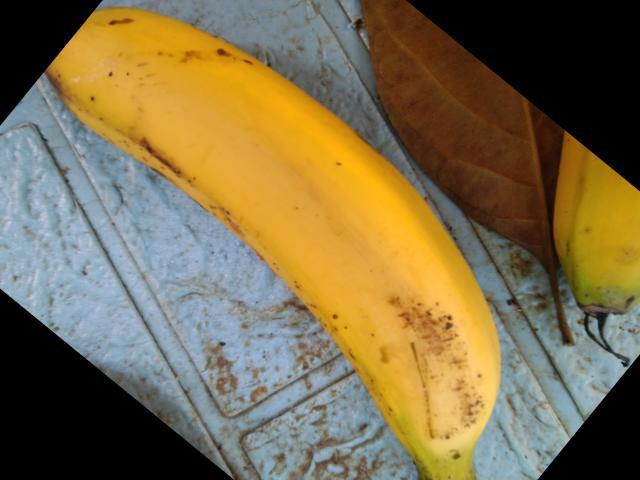ripe: (58, 16, 530, 479)
